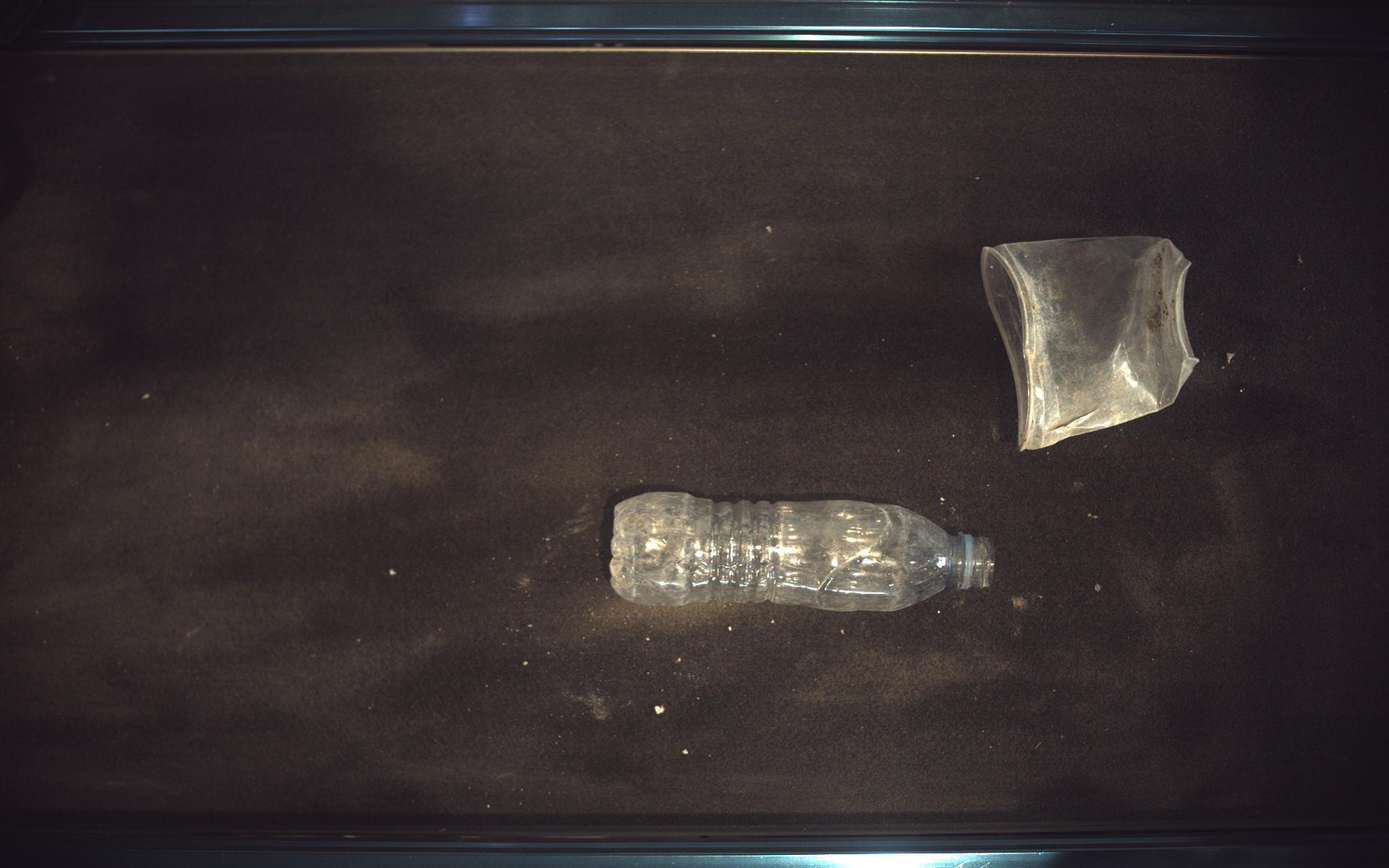general_w: (983, 236, 1202, 451), (611, 492, 996, 613)
